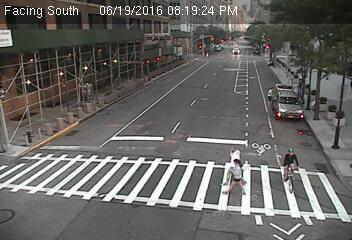neg: (266, 143, 301, 189), (196, 39, 219, 69), (112, 68, 131, 93), (76, 83, 92, 104), (154, 41, 169, 61), (138, 52, 149, 68)
pos: (221, 157, 249, 195), (263, 85, 284, 115)
